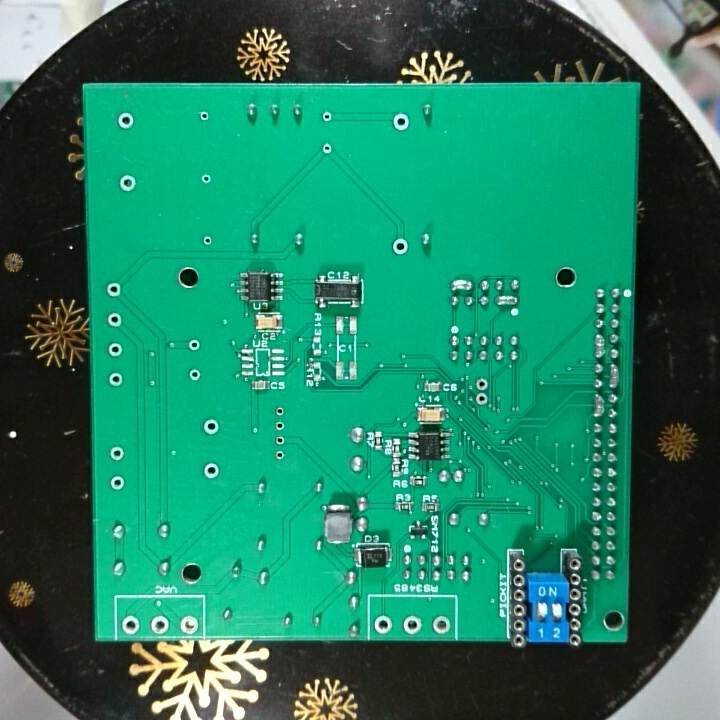F: (199, 459, 223, 483), (390, 110, 412, 135), (148, 612, 171, 635), (430, 614, 452, 637), (401, 615, 424, 637), (116, 172, 138, 195), (178, 613, 200, 635), (120, 614, 142, 636), (373, 614, 394, 637), (104, 310, 126, 331), (116, 109, 135, 132), (391, 235, 410, 258), (108, 473, 128, 494), (105, 278, 123, 301), (107, 444, 126, 465), (106, 369, 125, 390), (201, 417, 220, 438), (105, 341, 125, 360), (471, 391, 491, 410), (318, 107, 335, 126), (271, 432, 288, 450), (186, 366, 202, 385), (186, 337, 202, 355), (319, 140, 335, 158), (271, 418, 288, 434), (474, 375, 490, 392), (196, 108, 212, 124), (199, 170, 213, 188), (271, 448, 287, 463), (200, 233, 216, 247), (273, 403, 286, 418)
P: (492, 291, 521, 309), (590, 391, 607, 418), (608, 361, 622, 392), (448, 277, 474, 292), (592, 332, 605, 361)
